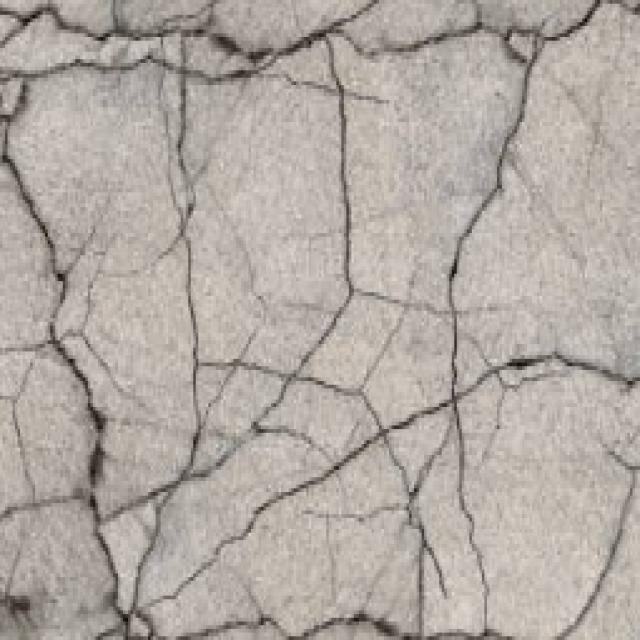network cracks: (0, 0, 639, 639), (552, 444, 639, 639)
